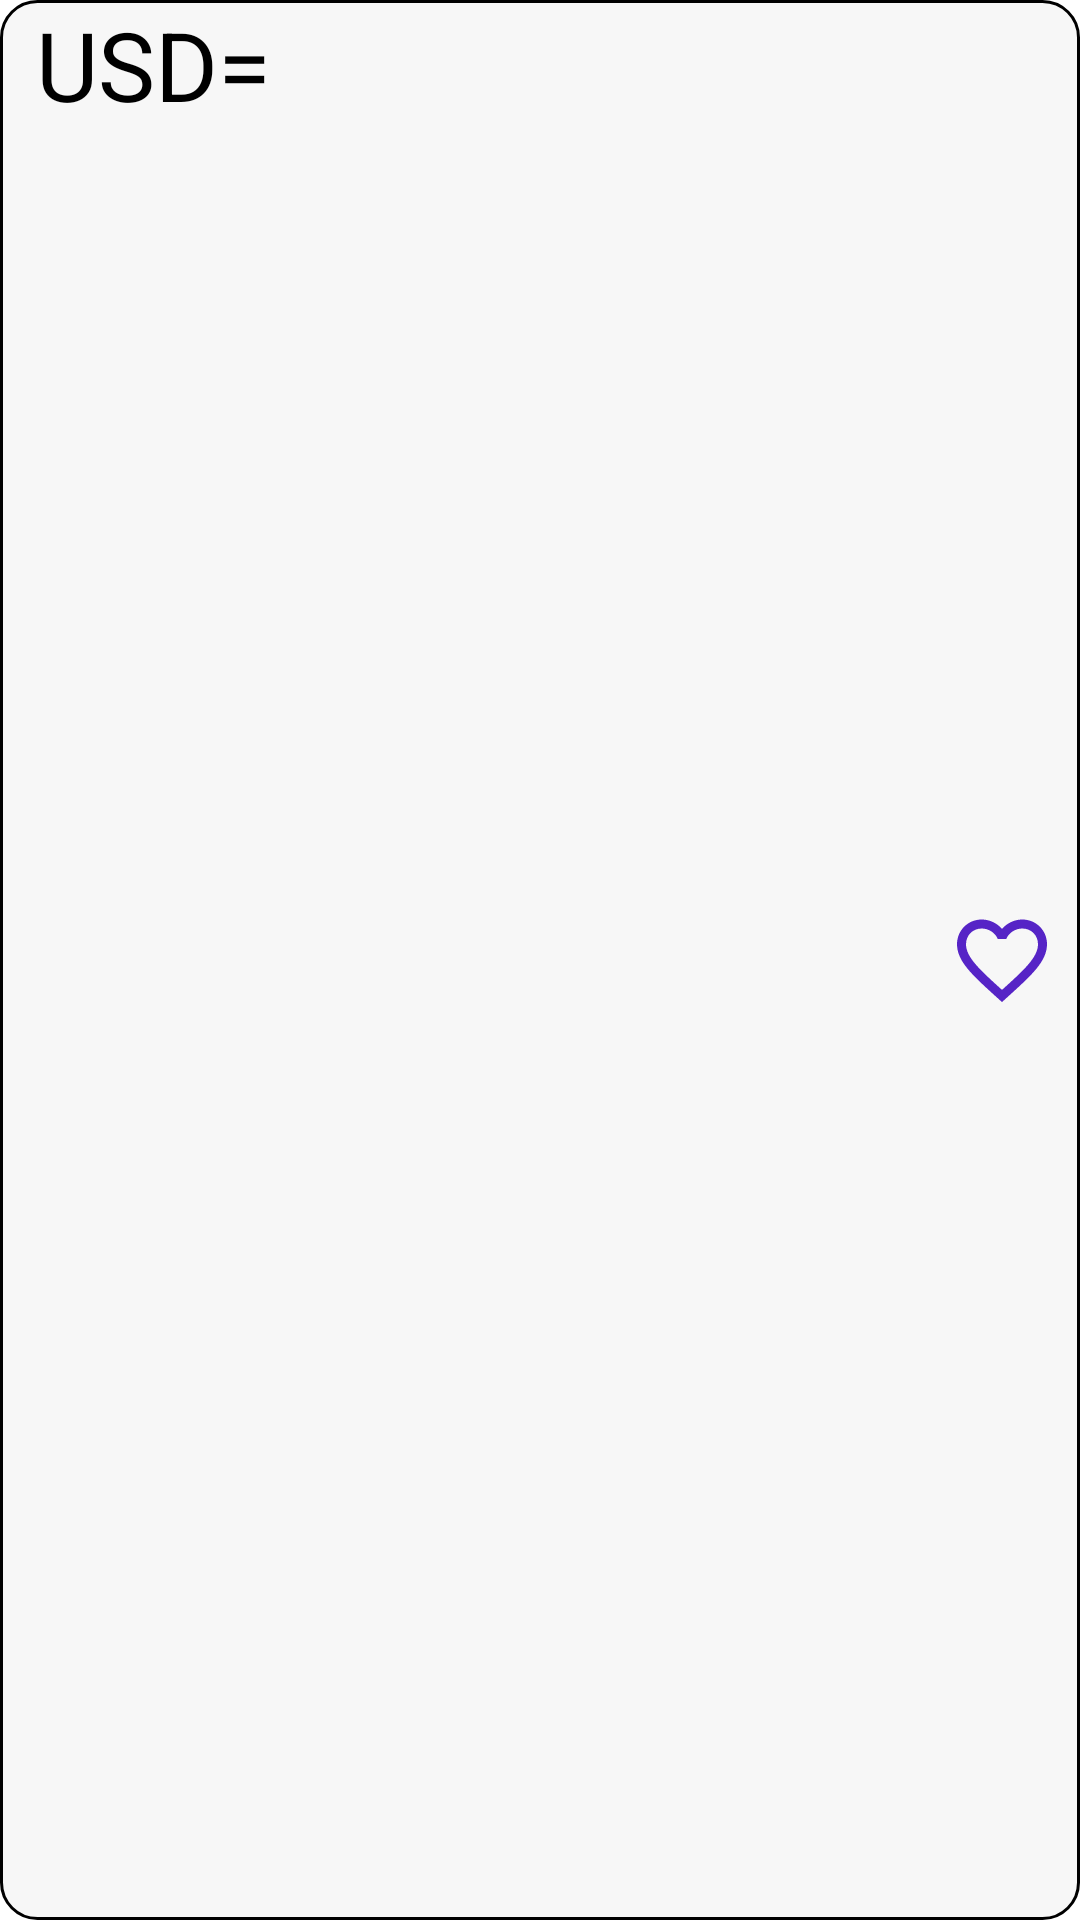

Icons on this 1080x1920 Android screen, each with its box as (x1, y1, x2, y2):
favorite border: (957, 919, 1047, 1002)
